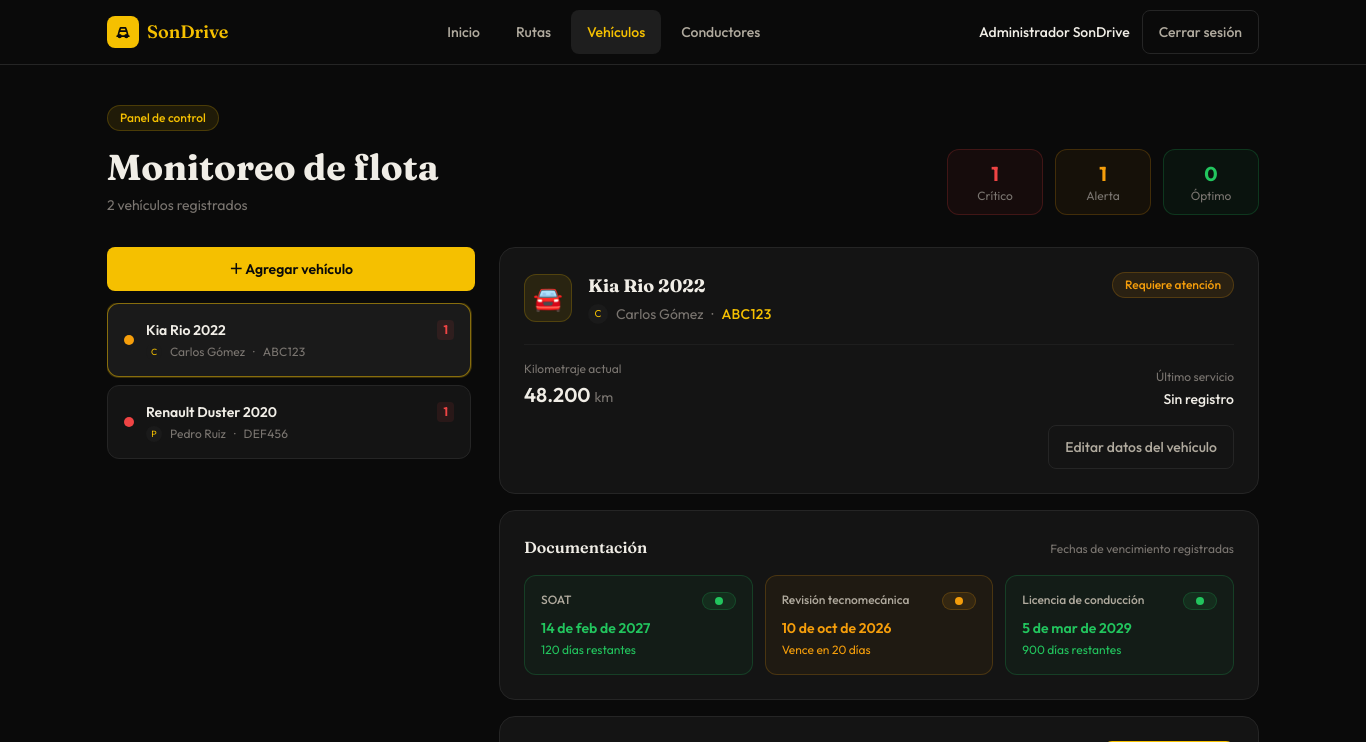
Test: PaginaVehiculos › edición de los datos del vehículo › ofrece la edición en un vehículo crítico con el conductor deshabilitado
The image size is (1366, 742).
Click the button "Renault Duster 2020 1 P Pedro Ruiz · DEF456": (211, 412) [107, 385, 471, 459]
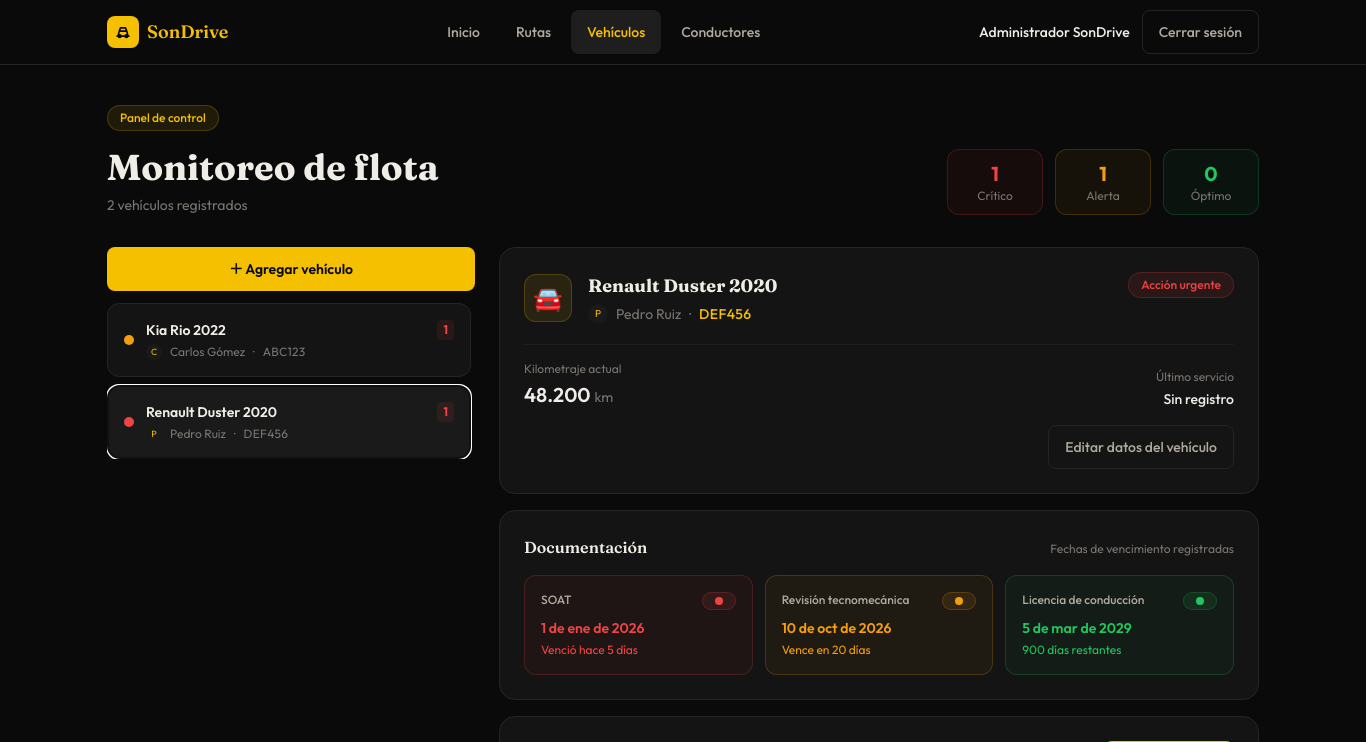
expect the text "Acción urgente" is shown: met, box [1128, 272, 1234, 298]
Click the button with aria-label "Editar datos del vehículo Renault Duster 2020 DEF456": (1141, 447) [1048, 425, 1234, 469]
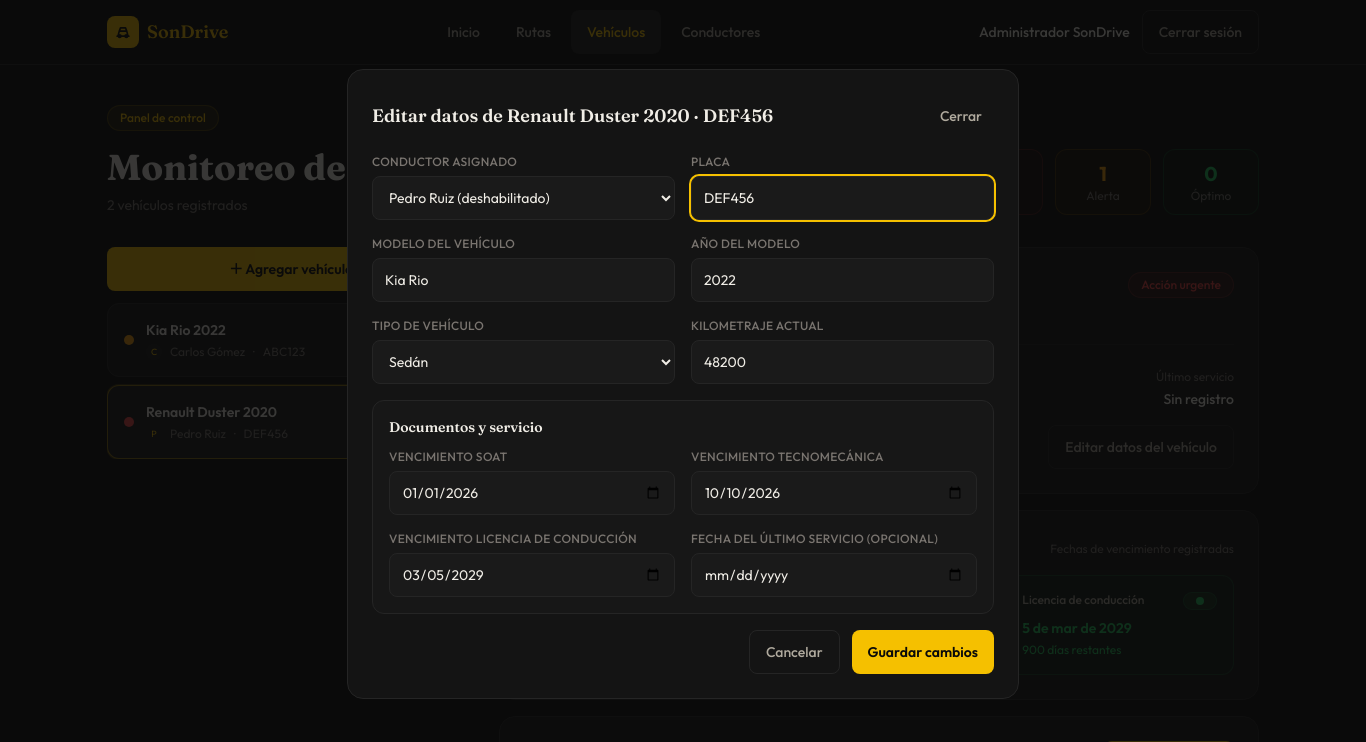
expect the button "Guardar cambios" is enabled: met, box [852, 630, 994, 674]
expect the dropdown labelled "Conductor asignado" shows "Pedro Ruiz (deshabilitado)": met, box [372, 176, 675, 220]
